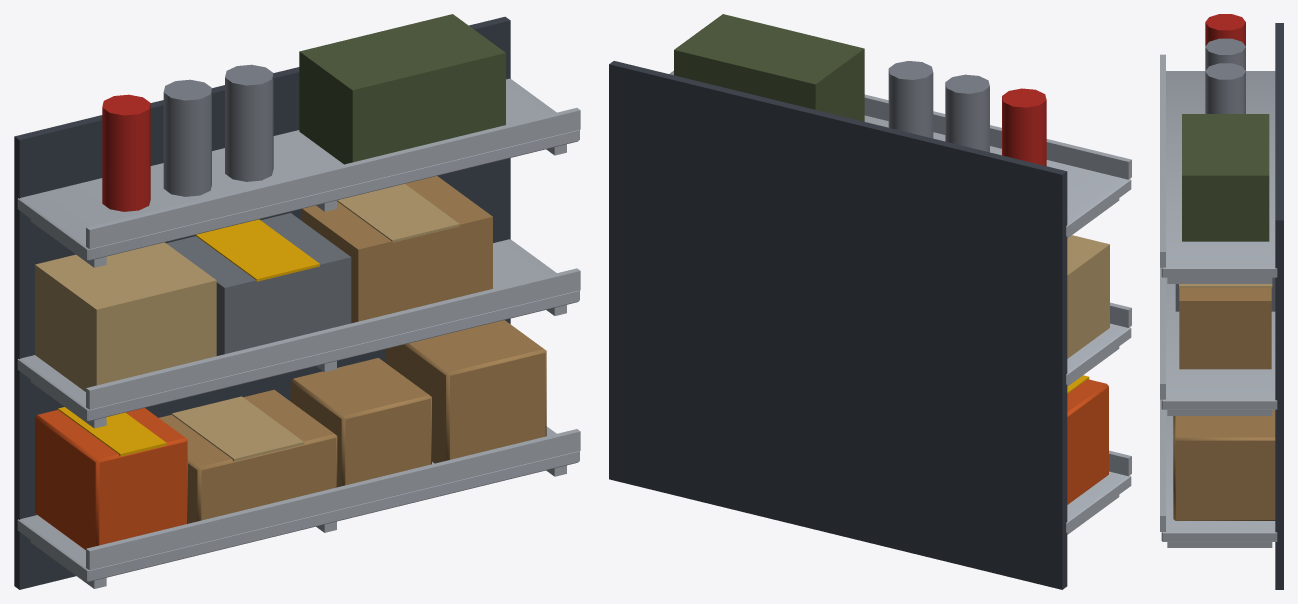
The model's file is shelving_wall_storage_rack.glb.
3 views of the same model, side by side, from view 1: azimuth 30°, elevation 25°; view 2: azimuth 150°, elevation 25°; view 3: azimuth 270°, elevation 25° (orthographic). The views are drawn at different scales.
Parts seen in each view (by area): view 1: shelving_wall_storage_rack; view 2: shelving_wall_storage_rack; view 3: shelving_wall_storage_rack.
Part boxes in pixels (x1,y1,x2,y2): shelving_wall_storage_rack: (14,14,580,589); shelving_wall_storage_rack: (609,14,1131,589); shelving_wall_storage_rack: (1160,14,1283,589).
Size of the model in its own units: 1.61 by 1.52 by 0.425.
